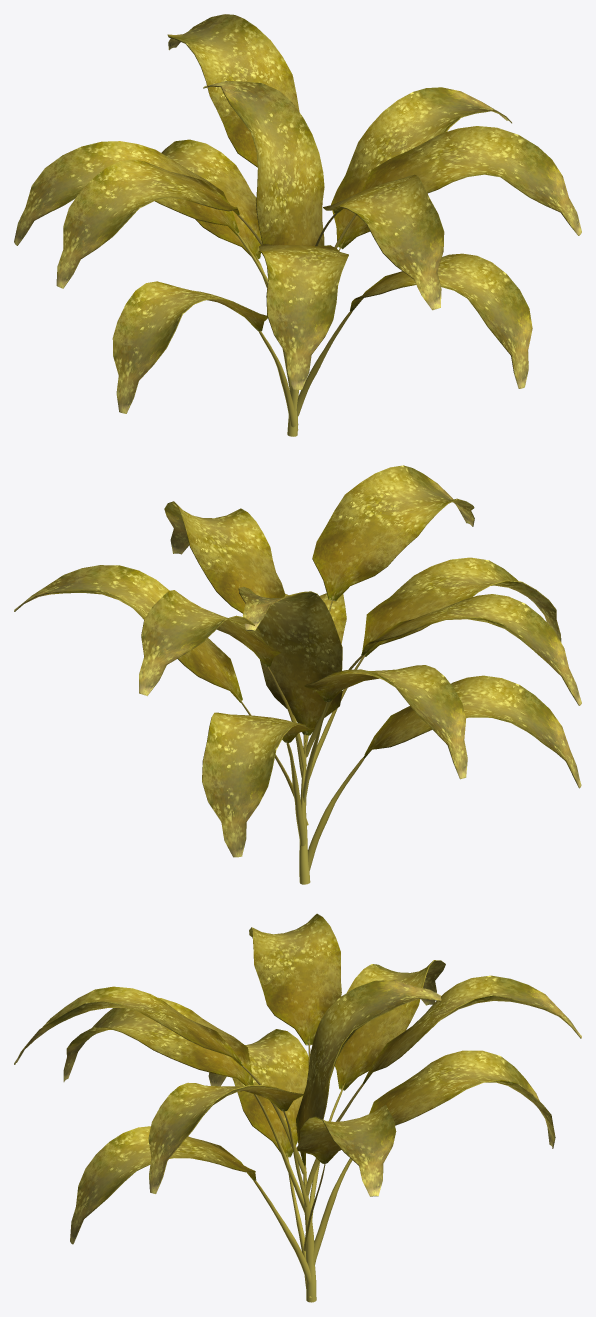
The model's file is Plant.fbx.
3 views of the same model, one above another, from view 1: azimuth 30°, elevation 25°; view 2: azimuth 150°, elevation 25°; view 3: azimuth 270°, elevation 25° (orthographic). The views are drawn at different scales.
Parts seen in each view (by area): view 1: Plant_FBX; view 2: Plant_FBX; view 3: Plant_FBX.
Part boxes in pixels (<box>): Plant_FBX: <box>14,14,581,436</box>; Plant_FBX: <box>14,465,581,884</box>; Plant_FBX: <box>14,913,581,1302</box>.
Bounding box in the file's own units: 1.27 × 0.8124 × 1.28.
